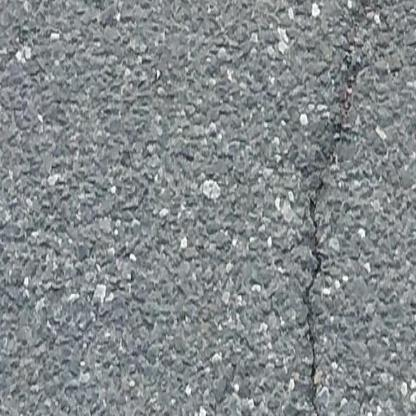Cracks: (302, 73, 356, 416)
